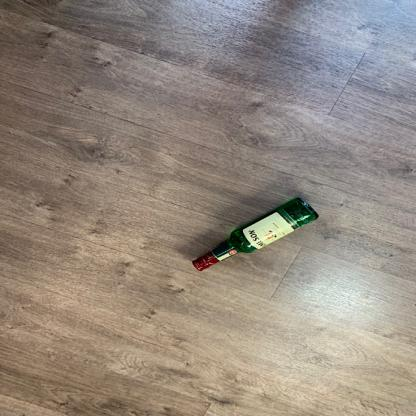trash: (190, 198, 324, 274)
